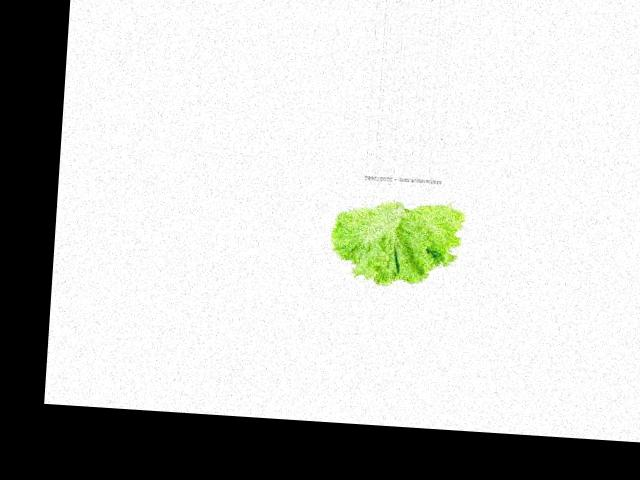lettuce: (314, 178, 484, 303)
